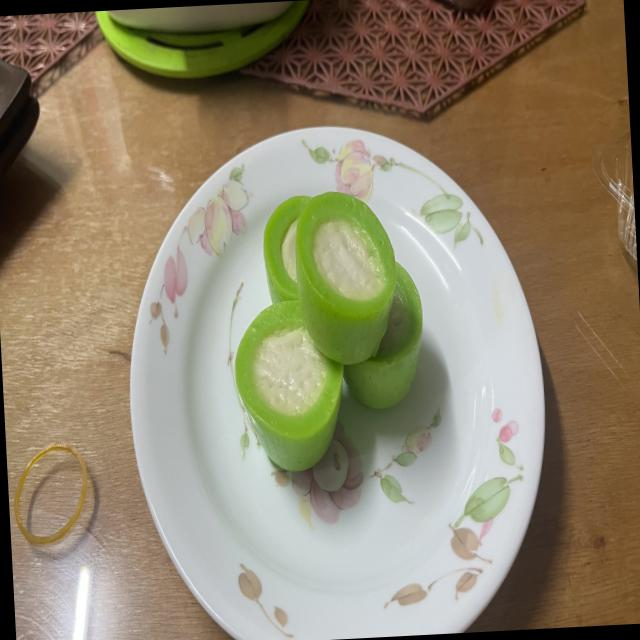nona-manis: (235, 301, 343, 471), (295, 192, 396, 365), (344, 263, 423, 409), (263, 196, 310, 305)
